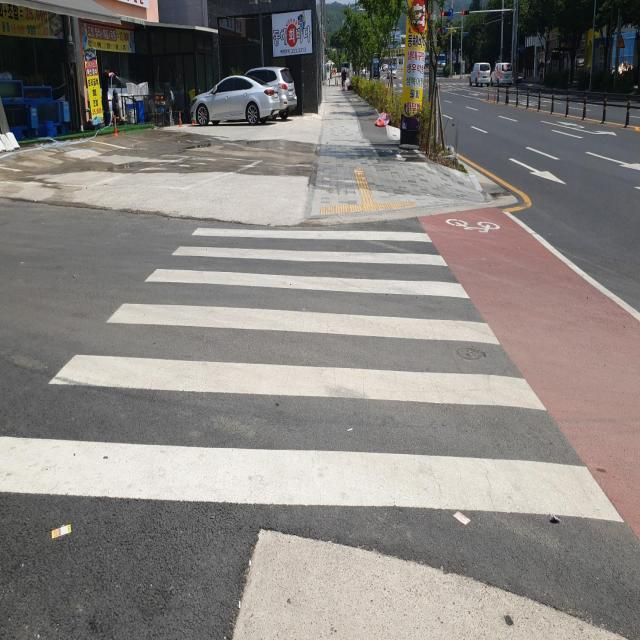횡단보도: (0, 219, 629, 527)
